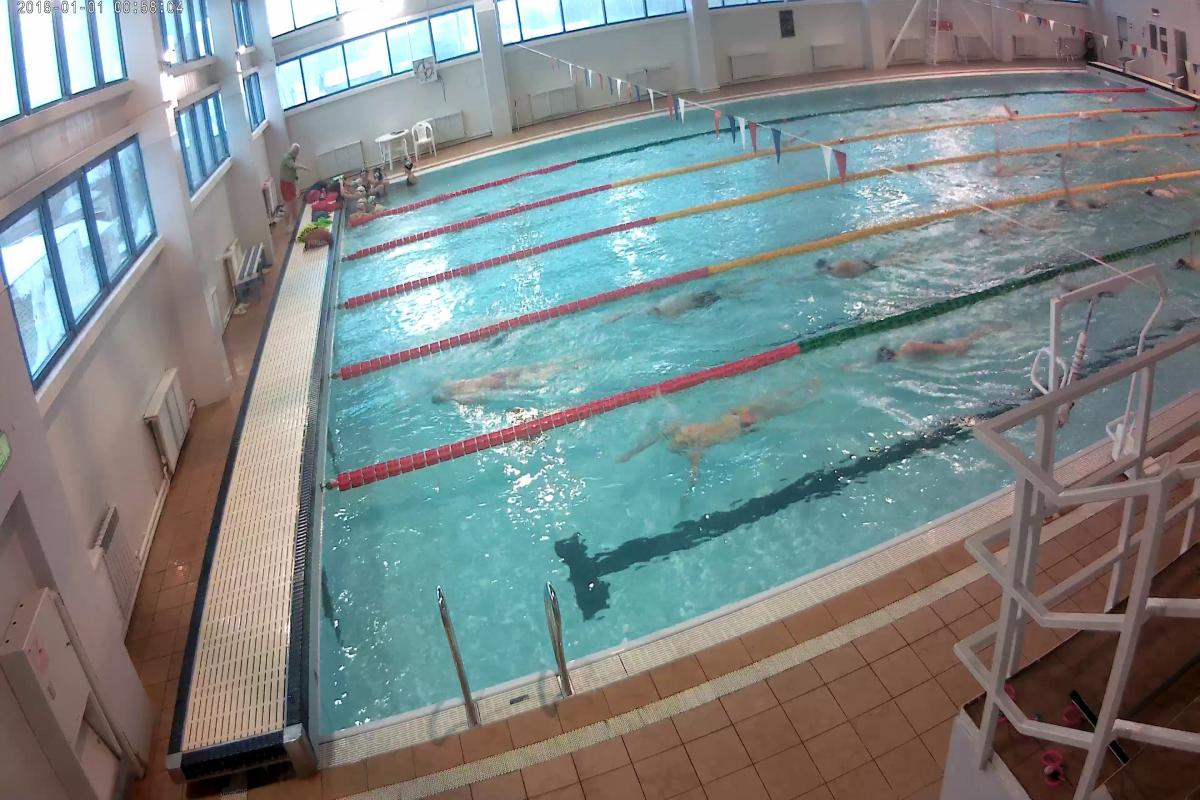swimmer: (666, 399, 791, 446), (436, 368, 562, 404), (876, 338, 998, 370), (647, 284, 767, 315), (811, 254, 922, 282), (1044, 185, 1130, 213), (955, 215, 1025, 240), (1141, 176, 1188, 208), (1056, 139, 1116, 162), (1170, 245, 1200, 273), (982, 159, 1038, 173)
